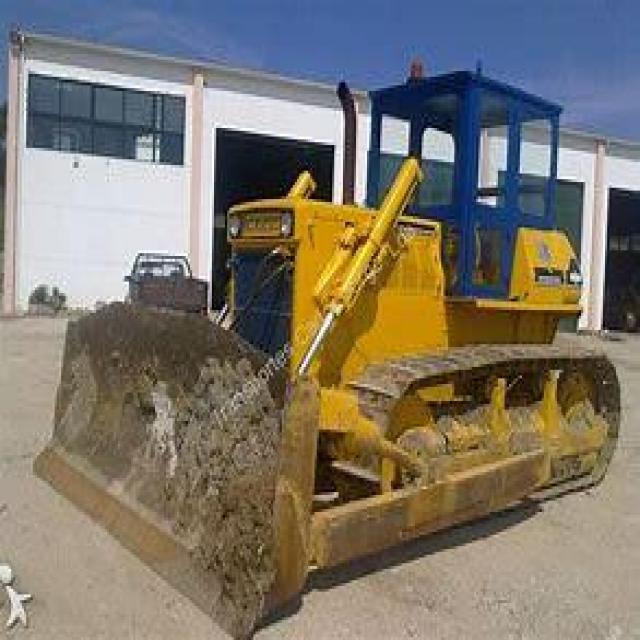Bulldozer: (44, 60, 638, 614)
